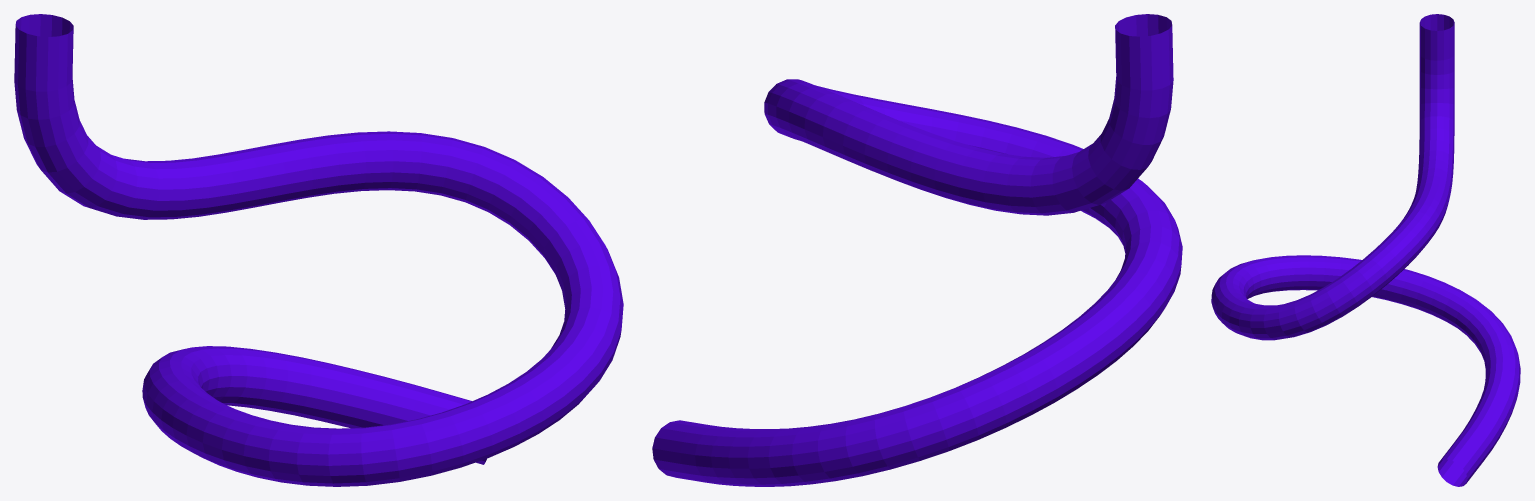
File: Tube_Blue_v1.glb
The picture shows the model from 3 angles, left to right: view 1: azimuth 30°, elevation 25°; view 2: azimuth 150°, elevation 25°; view 3: azimuth 270°, elevation 25°; orthographic projection. The views are drawn at different scales.
Parts seen in each view (by area): view 1: Tube; view 2: Tube; view 3: Tube.
Part boxes in pixels (bbox=[...]): Tube: bbox=[14, 14, 623, 486]; Tube: bbox=[652, 14, 1182, 486]; Tube: bbox=[1211, 14, 1520, 486].
Size of the model in its own units: 19.71 by 21.04 by 17.7.
